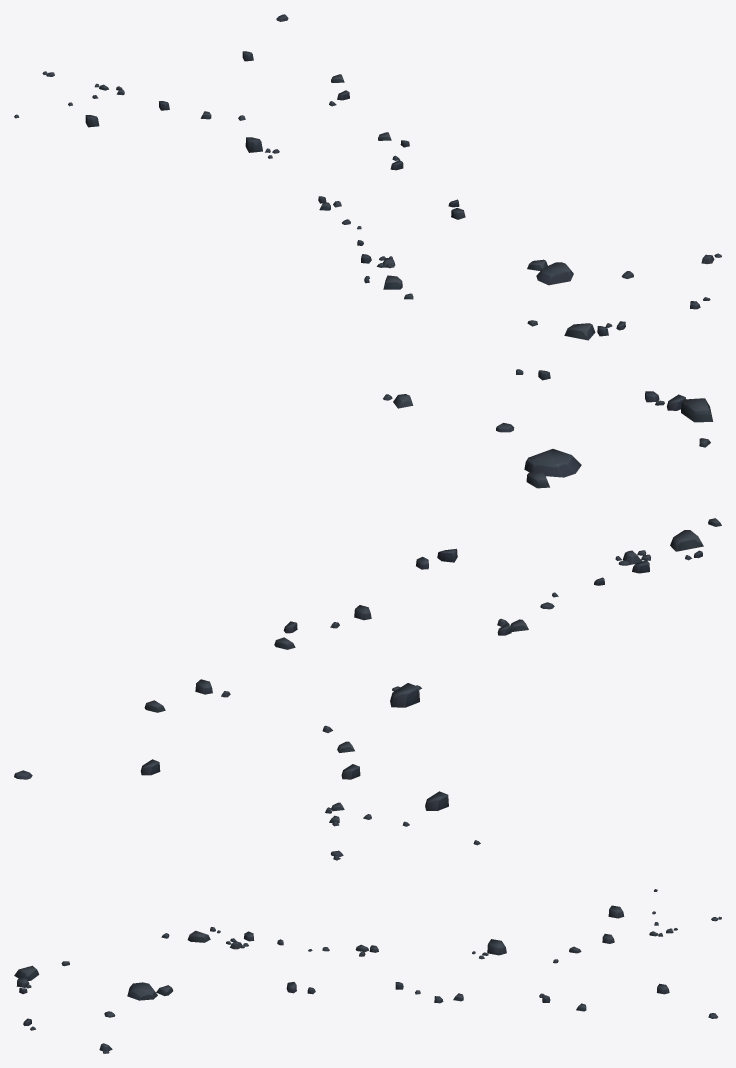
Rendered from shitou12.fbx.
3 renders of one model, top to bottom at view 1: azimuth 30°, elevation 25°; view 2: azimuth 150°, elevation 25°; view 3: azimuth 270°, elevation 25°, orthographic. The views are drawn at different scales.
Visible parts, largest first — view 1: shitou12; view 2: shitou12; view 3: shitou12.
Boxes of the visible parts, x1,y1,x2,y2 form: shitou12: [14, 14, 721, 340]; shitou12: [14, 369, 721, 860]; shitou12: [14, 889, 721, 1053].
Bounding box in the file's own units: 5453 × 191 × 9953.
